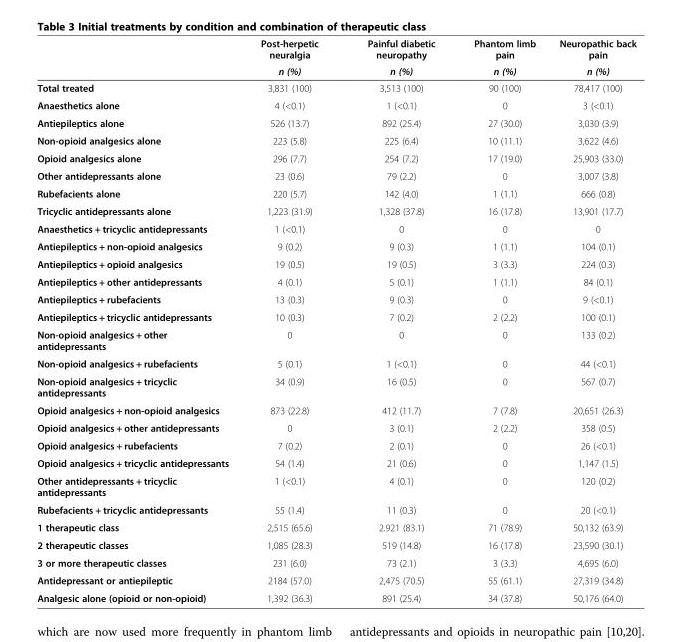table: (36, 37, 635, 603)
table column: (36, 37, 244, 603), (342, 37, 453, 603), (244, 37, 342, 603), (453, 37, 546, 603), (546, 37, 635, 603)
table column header: (36, 37, 635, 79)
table row: (36, 325, 635, 354), (36, 372, 635, 401), (36, 471, 635, 500), (36, 37, 635, 62), (36, 113, 635, 131), (36, 131, 635, 149), (36, 166, 635, 184), (36, 184, 635, 202), (36, 219, 635, 237), (36, 254, 635, 272), (36, 272, 635, 290), (36, 307, 635, 325), (36, 354, 635, 372), (36, 418, 635, 436), (36, 436, 635, 454), (36, 500, 635, 518), (36, 535, 635, 553), (36, 553, 635, 571), (36, 62, 635, 79), (36, 79, 635, 96), (36, 96, 635, 113), (36, 149, 635, 166), (36, 202, 635, 219), (36, 237, 635, 254), (36, 290, 635, 307), (36, 401, 635, 418), (36, 454, 635, 471), (36, 518, 635, 535), (36, 571, 635, 588), (36, 588, 635, 603)
table spanning cell: (342, 37, 453, 79), (244, 37, 342, 79), (453, 37, 546, 79), (546, 37, 635, 79)
